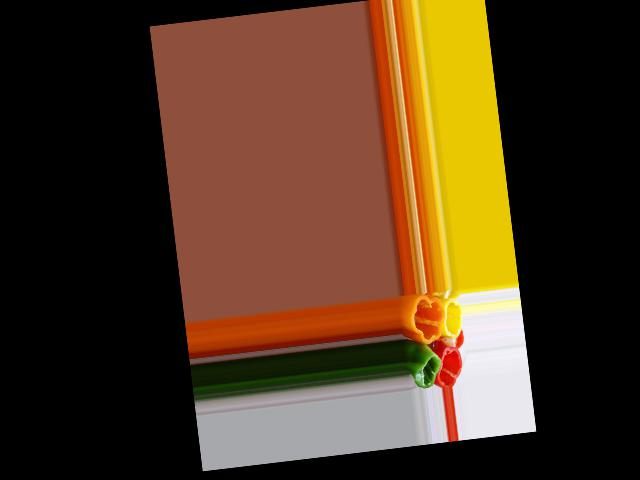bell_pepper: (435, 344, 465, 386)
